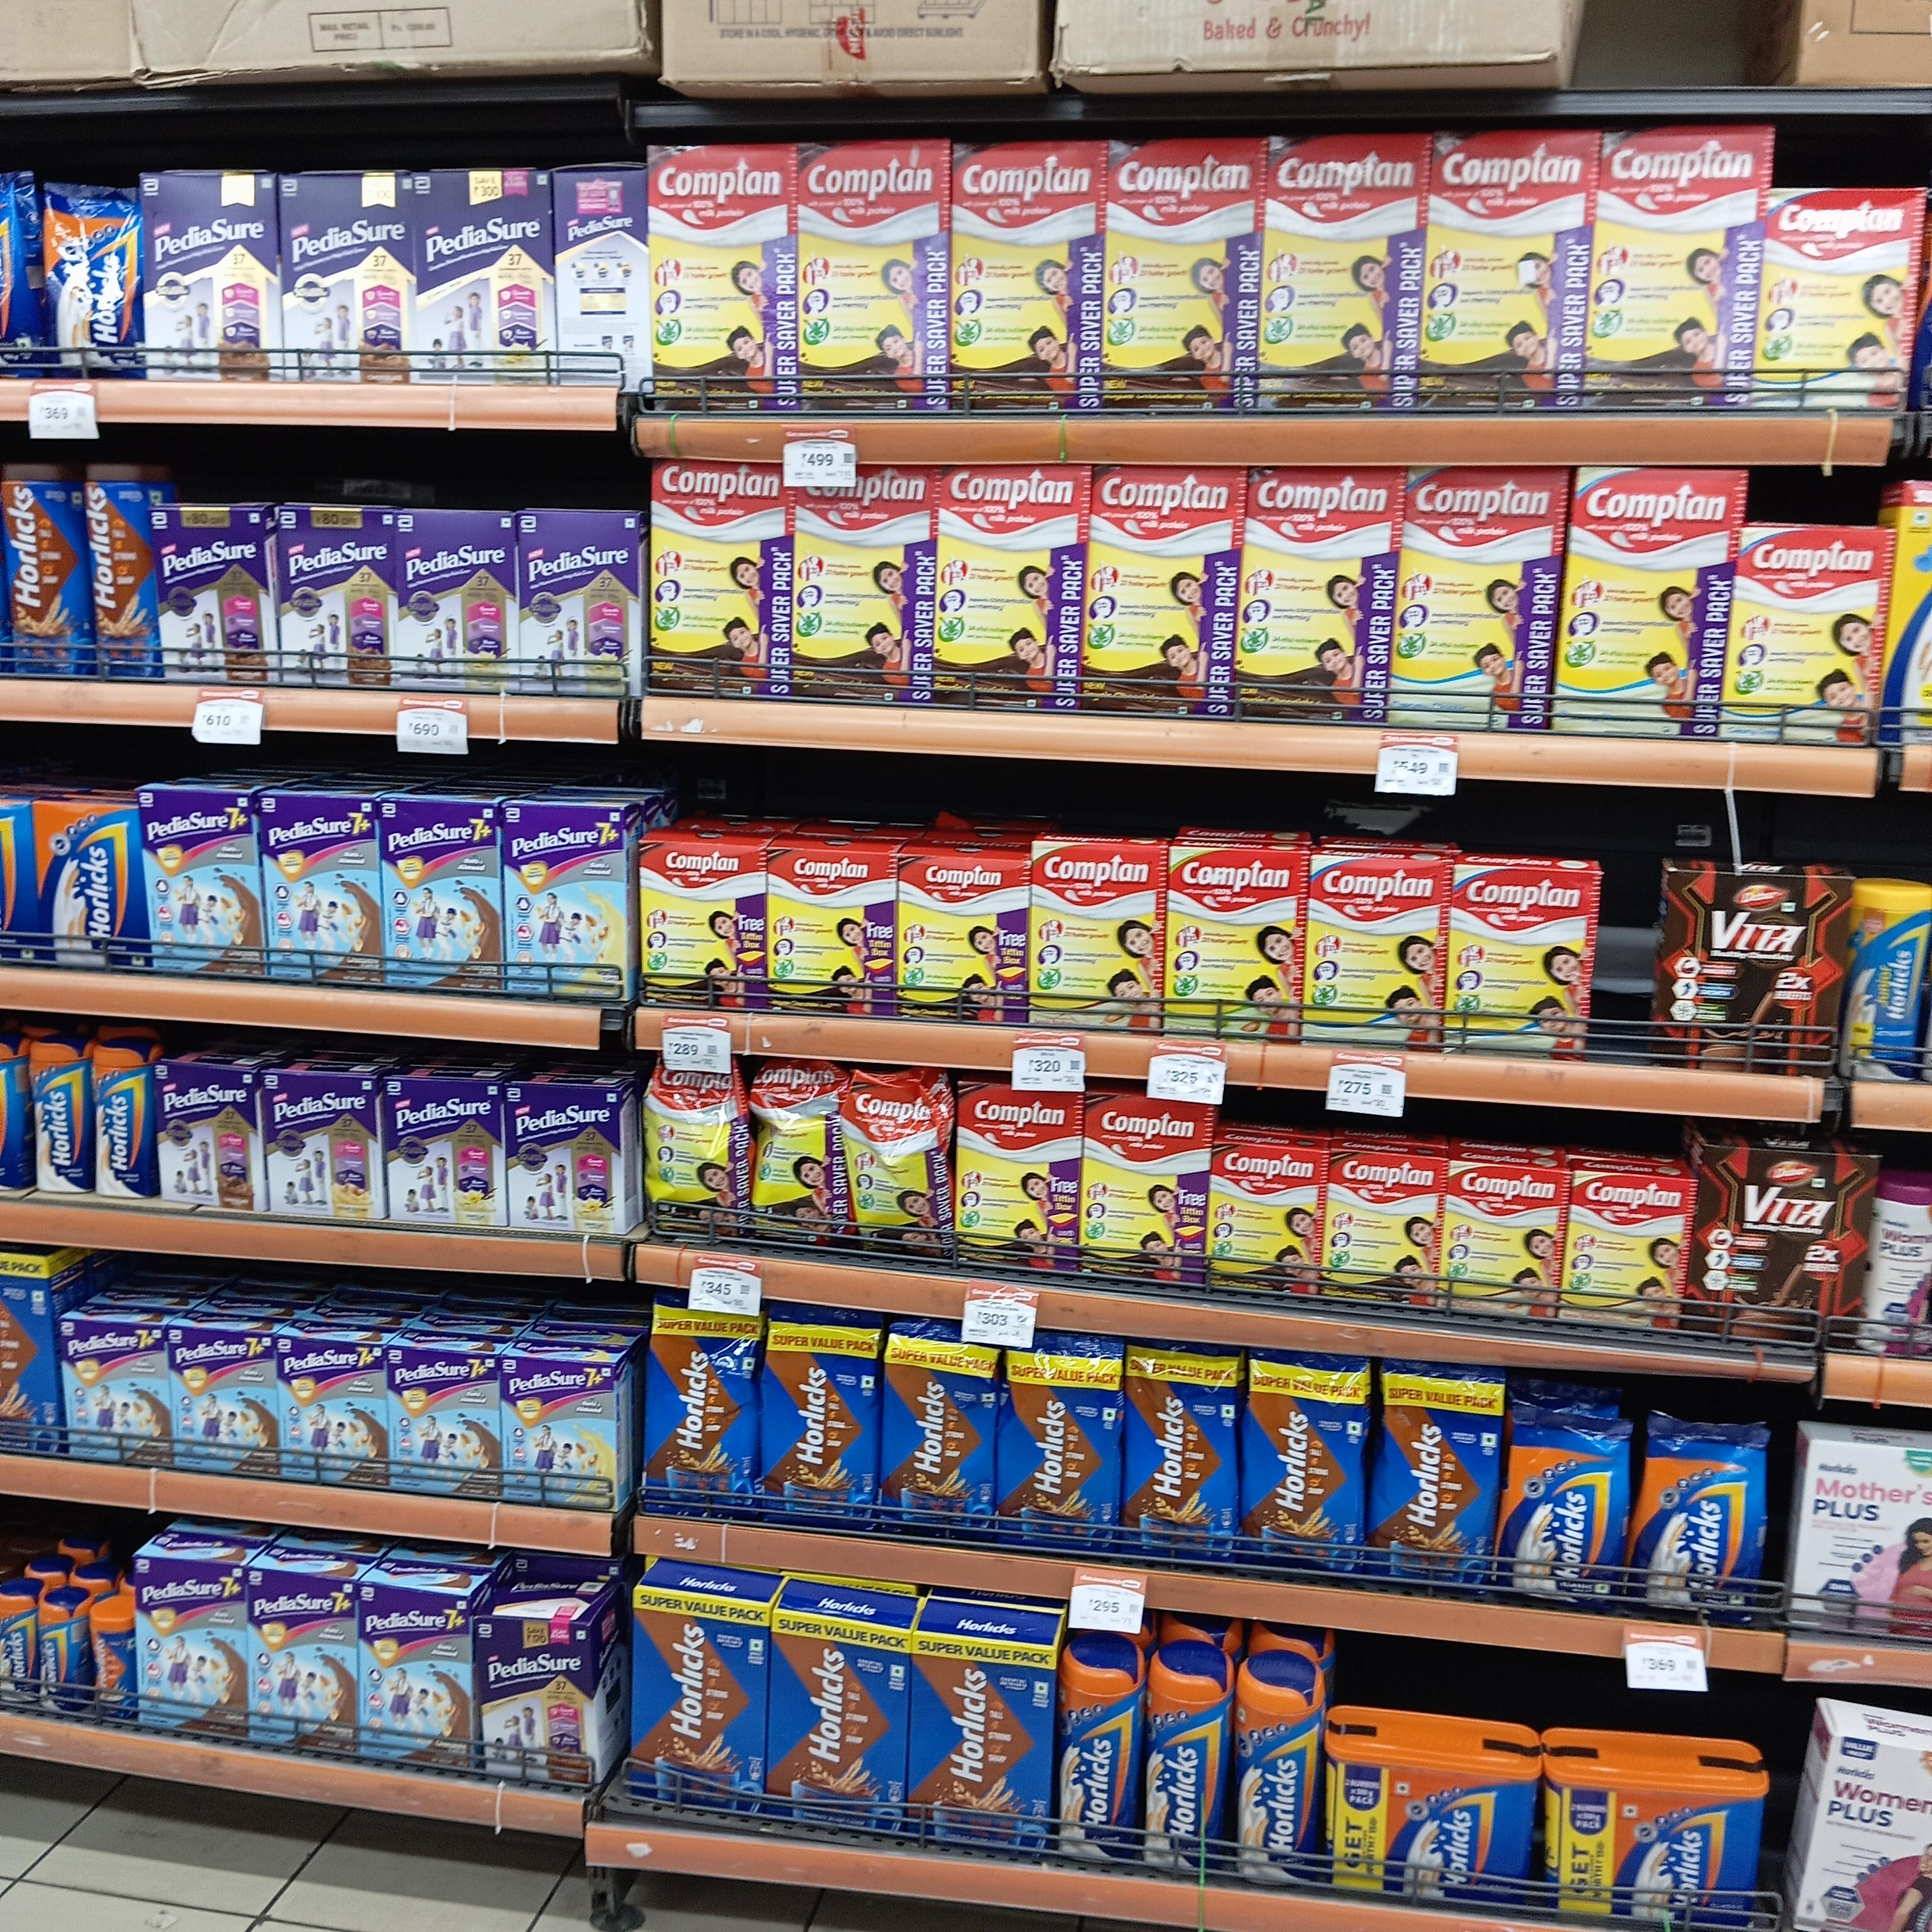COMPLAN_CHOCOLATE_1_KG_PACK: (1428, 136, 1589, 409), (1557, 471, 1720, 738), (1596, 136, 1757, 405), (1267, 138, 1419, 409), (1394, 467, 1548, 729), (1104, 142, 1254, 409), (796, 143, 947, 409), (648, 145, 794, 414), (952, 143, 1099, 410), (1240, 467, 1387, 725), (1083, 464, 1228, 718), (943, 471, 1079, 713), (646, 467, 786, 697), (793, 487, 931, 704), (849, 1070, 952, 1261), (748, 1058, 846, 1254), (646, 1072, 750, 1249)
COMPLAN_CHOCOLATE_200_GMS_PACK: (899, 858, 1028, 1023), (639, 844, 764, 1008), (771, 849, 893, 1016), (1210, 1143, 1322, 1300), (1327, 1148, 1437, 1306)
COMPLAN_CHOCOLATE_500_GMS_PACK: (959, 1079, 1079, 1274), (1083, 1093, 1203, 1286)
COMPLAN_CREAMY_CLASSIC_500_G_PACK: (1764, 189, 1916, 409), (1730, 527, 1881, 745), (1302, 849, 1442, 1049), (1451, 867, 1592, 1056), (1168, 846, 1302, 1040), (1035, 844, 1159, 1030)
COMPLAN_KESAR_BADAM_200_GMS_PACK: (1571, 1177, 1691, 1330), (1447, 1162, 1562, 1322)
HORLICK_CHOCOLATE_1_KG_JAR: (4, 467, 88, 676), (88, 465, 149, 676)
HORLICK_CLASSIC_MALT_750_G_POUCH: (44, 182, 138, 373)
PEDIASURE_VANILLA_500_G_PACK: (518, 510, 642, 695)
